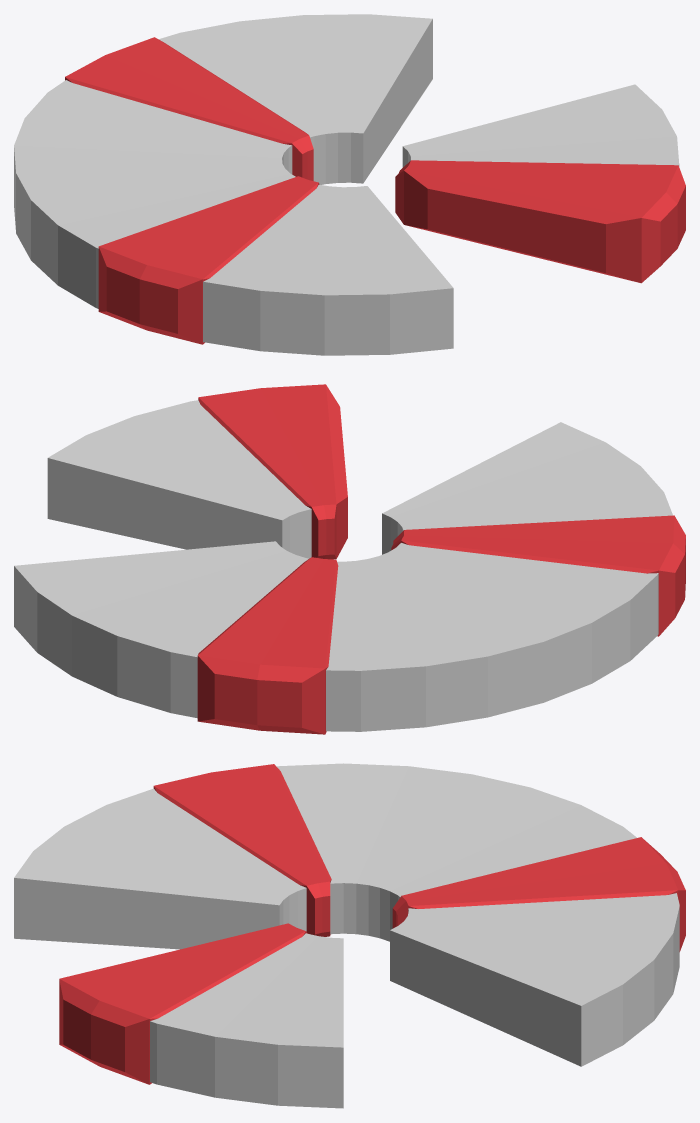
The model's file is platform_doublegap2.glb.
3 renders of one model, top to bottom at view 1: azimuth 30°, elevation 25°; view 2: azimuth 150°, elevation 25°; view 3: azimuth 270°, elevation 25°, orthographic.
Parts seen in each view (by area): view 1: Platform_DoubleGap2, Danger.015, Danger.023, Danger.024; view 2: Platform_DoubleGap2, Danger.024, Danger.015, Danger.023; view 3: Platform_DoubleGap2, Danger.015, Danger.023, Danger.024.
Boxes of the visible parts, x1,y1,x2,y2 form: Platform_DoubleGap2: [14, 14, 679, 355]; Danger.015: [395, 160, 685, 283]; Danger.023: [98, 176, 319, 344]; Danger.024: [65, 37, 313, 180]; Platform_DoubleGap2: [14, 400, 672, 731]; Danger.024: [197, 557, 338, 734]; Danger.015: [198, 384, 347, 559]; Danger.023: [391, 515, 685, 636]; Platform_DoubleGap2: [14, 763, 679, 1108]; Danger.015: [59, 923, 307, 1084]; Danger.023: [153, 764, 331, 936]; Danger.024: [392, 837, 685, 951].
Bounding box in the file's own units: 2 × 0.2167 × 2.
